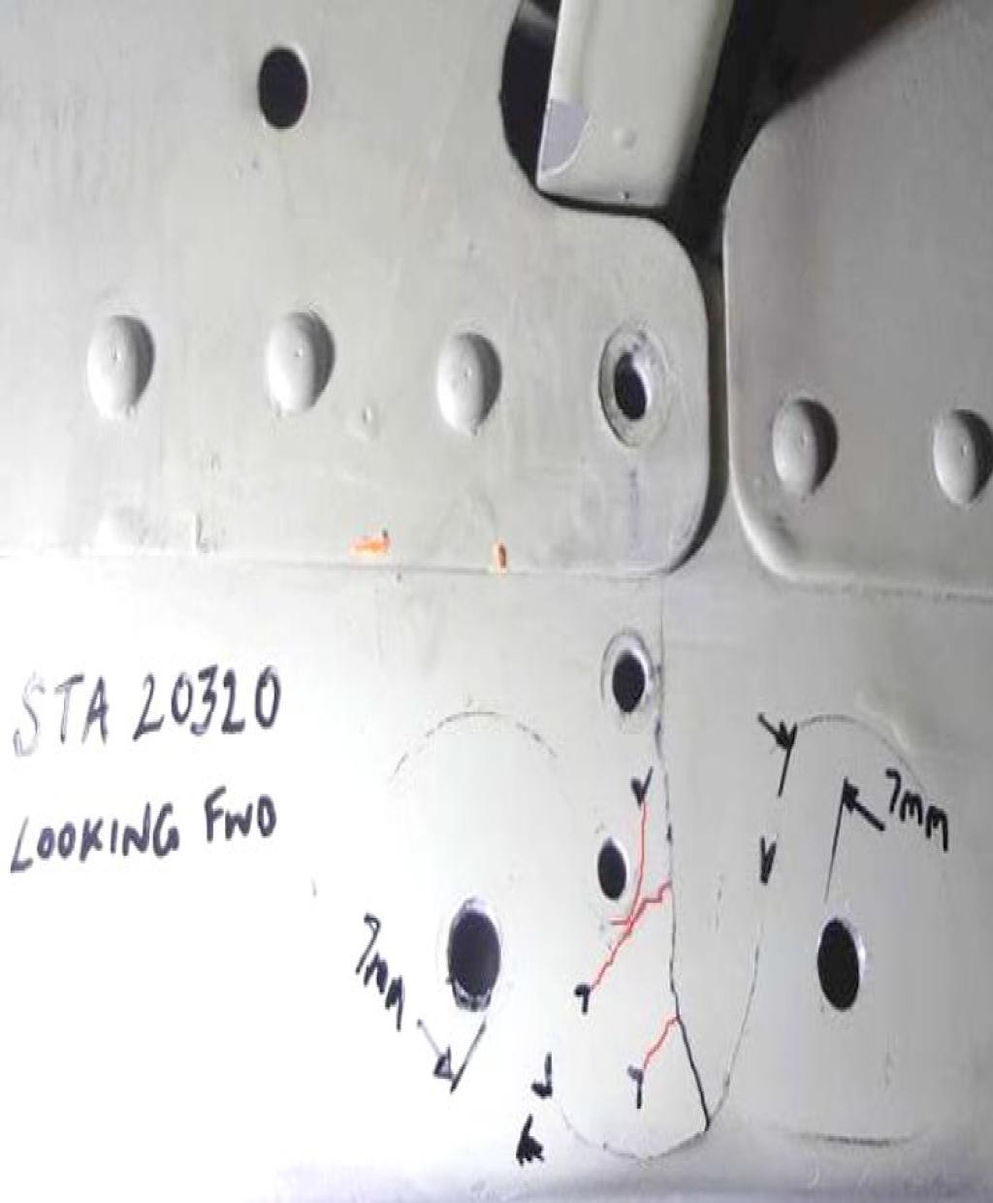crack: (562, 574, 762, 1193), (774, 705, 928, 801)
